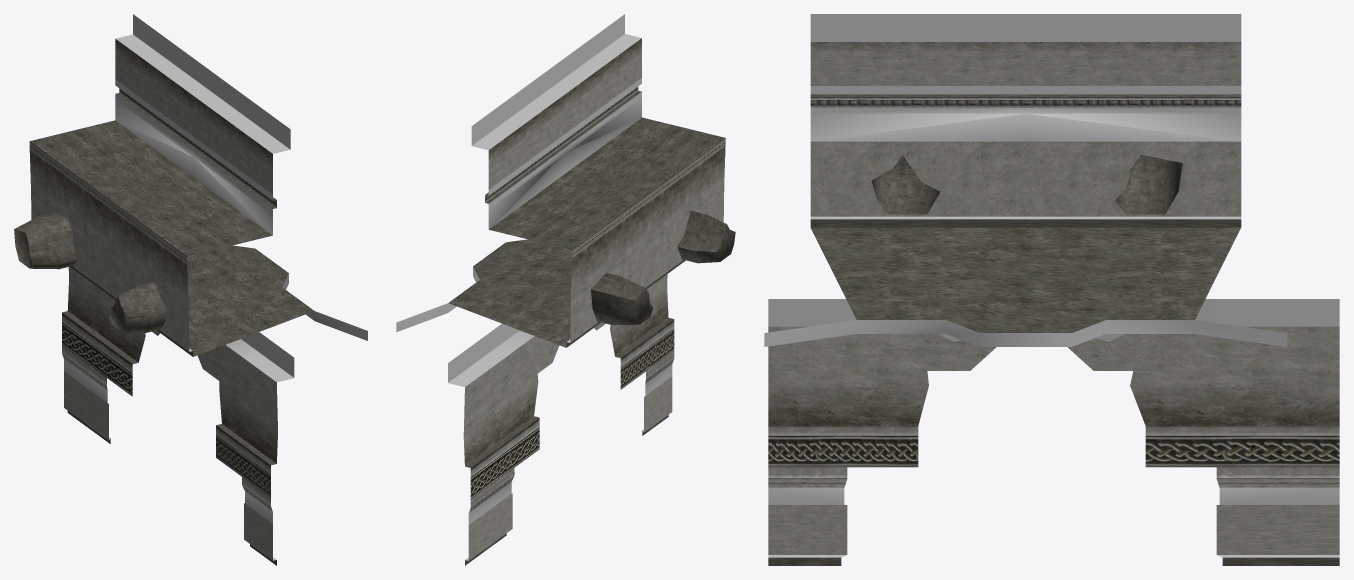
The model's file is DWARF_PALACE_GEAR_ROOM_WALL04C.obj.
The picture shows the model from 3 angles, left to right: view 1: azimuth 30°, elevation 25°; view 2: azimuth 150°, elevation 25°; view 3: azimuth 270°, elevation 25°; orthographic projection. The views are drawn at different scales.
Parts seen in each view (by area): view 1: ar_room_wall04C; view 2: ar_room_wall04C; view 3: ar_room_wall04C.
Boxes of the visible parts, <box> form: ar_room_wall04C: <box>14,14,367,565</box>; ar_room_wall04C: <box>396,14,735,565</box>; ar_room_wall04C: <box>764,14,1339,565</box>.
Size of the model in its own units: 1046 by 2050 by 1870.
